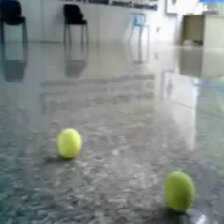tennis: (162, 171, 194, 211), (56, 128, 81, 157)
